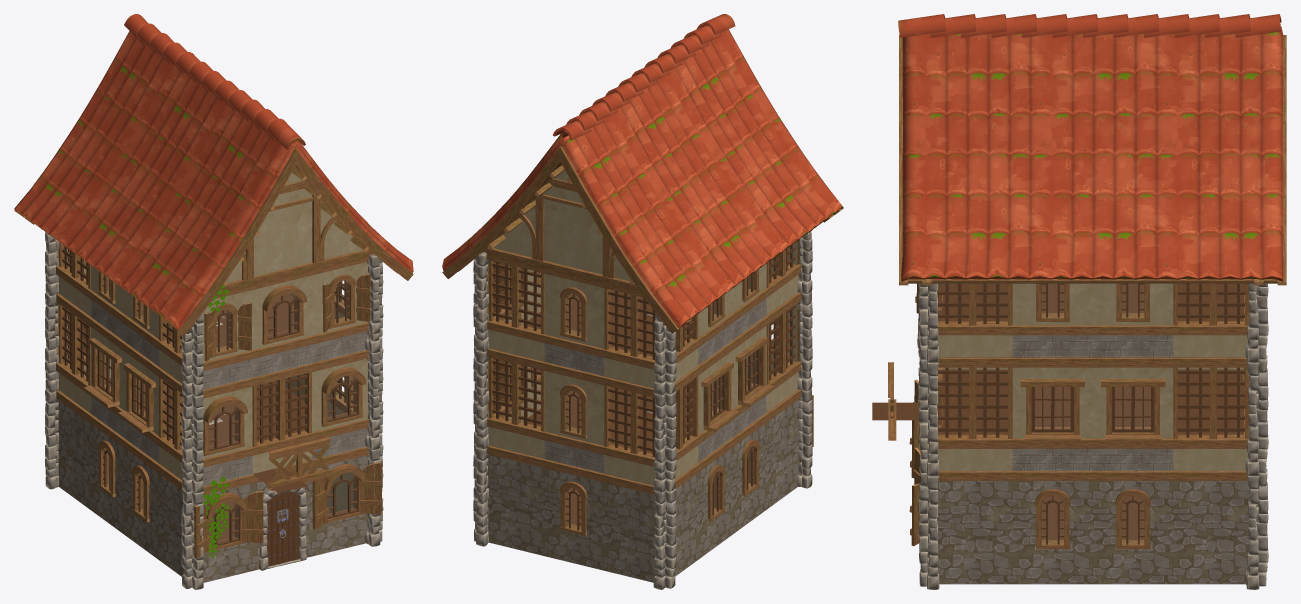
Rendered from house_shop_narrow_5.gltf.
3 views of the same model, side by side, from view 1: azimuth 30°, elevation 25°; view 2: azimuth 150°, elevation 25°; view 3: azimuth 270°, elevation 25° (orthographic). The views are drawn at different scales.
Visible parts, largest first — view 1: House; view 2: House; view 3: House.
Boxes of the visible parts, left/top/right/bottom form: House: left=14, top=14, right=413, bottom=589; House: left=442, top=14, right=843, bottom=589; House: left=872, top=14, right=1286, bottom=589.
Size of what is drawn, in the model's own units: 8.25 by 14.26 by 10.33.
10 materials, 9 textured.
